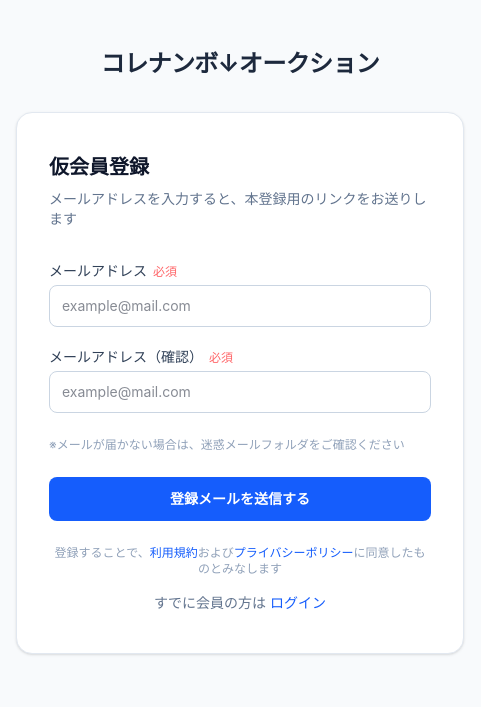
Scenario: UserRegistrationPage › API通信 › VALIDATION_ERRORだが既知フィールドエラーがない場合はフォームエラーが表示される
Type "test@example.com" into the field with placeholder "example@mail.com" at (240, 306), box [49,285,431,327]
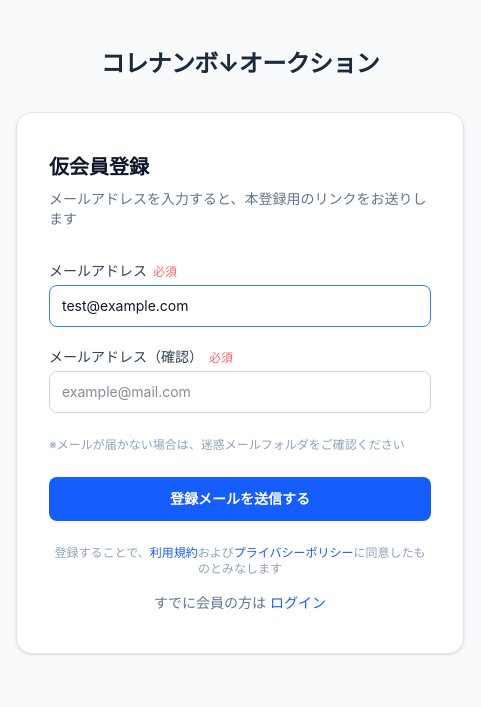
Type "test@example.com" into the field with placeholder "example@mail.com" at (240, 392), box [49,371,431,413]
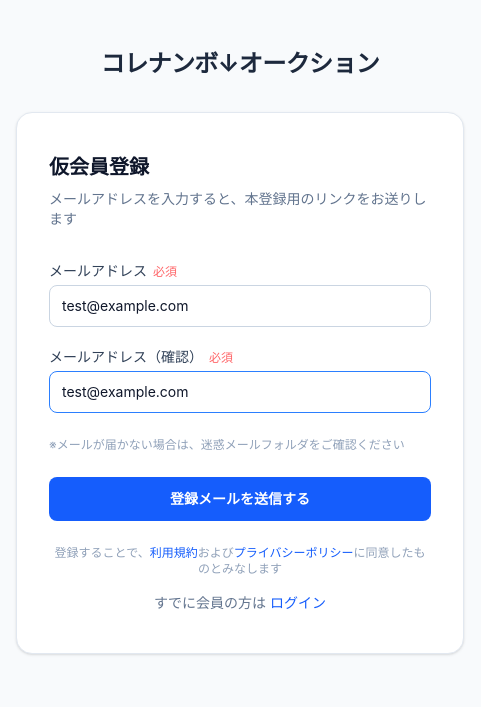
Click the button "登録メールを送信する" at (240, 499), box [49,477,431,521]
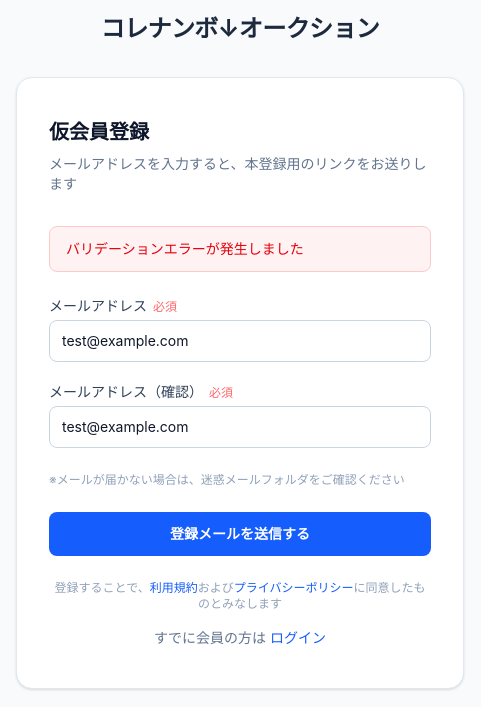
Expected: the text "バリデーションエラーが発生しました" is shown, [49,226,431,272]
